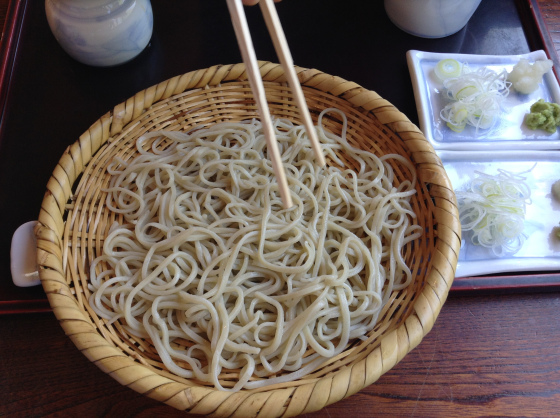Soba: (96, 119, 432, 387)
